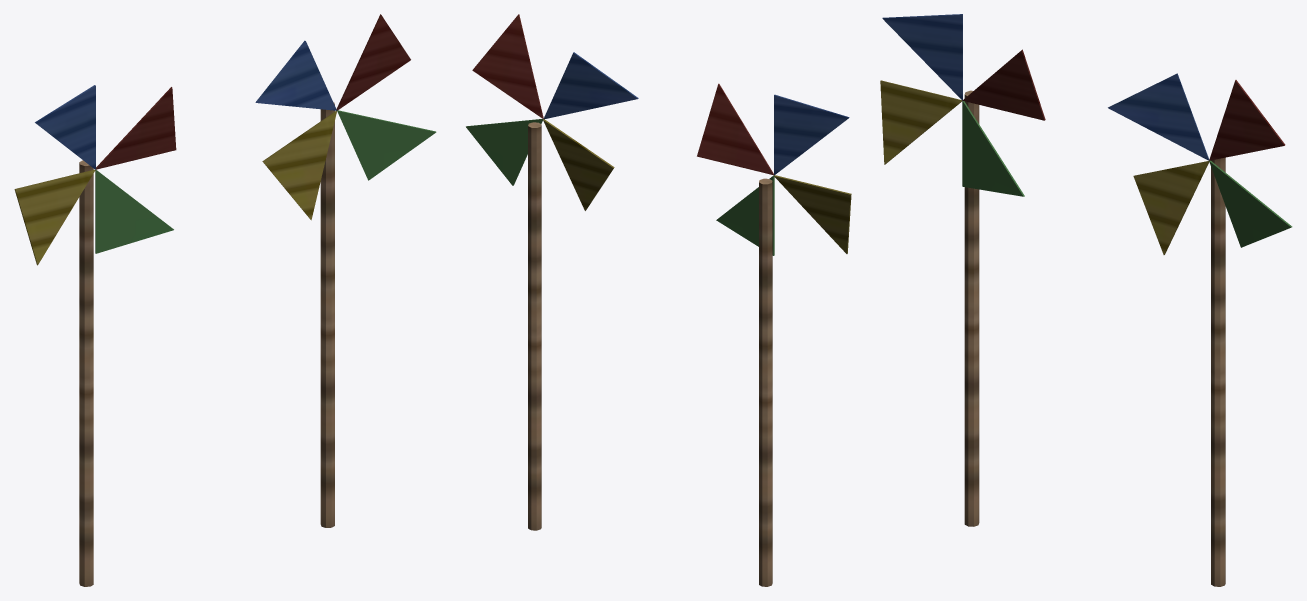
Rendered from TY35_Pinwheel.glb.
3 views of the same model, side by side, from view 1: azimuth 30°, elevation 25°; view 2: azimuth 150°, elevation 25°; view 3: azimuth 330°, elevation 25° (orthographic). The views are drawn at different scales.
Parts seen in each view (by area): view 1: TY35_Pinwheel; view 2: TY35_Pinwheel; view 3: TY35_Pinwheel.
Part boxes in pixels (x1=…): TY35_Pinwheel: x1=14, y1=14, x2=436, y2=586; TY35_Pinwheel: x1=466, y1=14, x2=851, y2=586; TY35_Pinwheel: x1=880, y1=14, x2=1292, y2=586.
Size of the model in its own units: 0.251 by 0.3 by 0.0235.
Materials: 5 (5 with a texture image).
